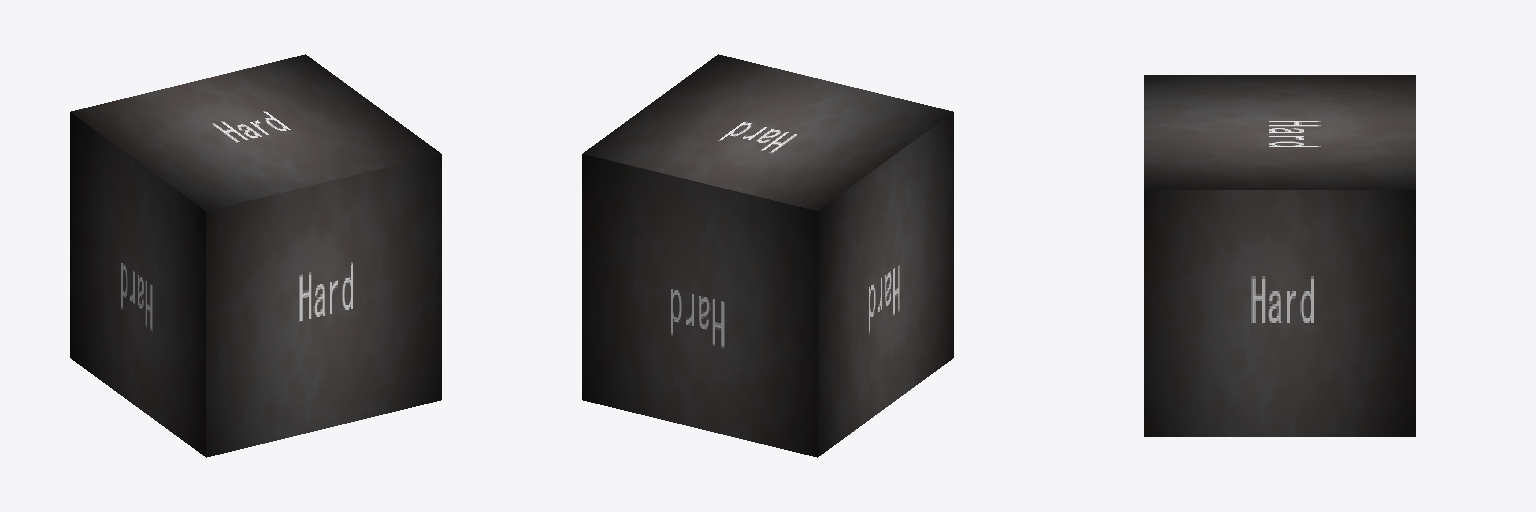
3 views of the same model, side by side, from view 1: azimuth 30°, elevation 25°; view 2: azimuth 150°, elevation 25°; view 3: azimuth 270°, elevation 25° (orthographic).
Visible parts, largest first — view 1: Cube; view 2: Cube; view 3: Cube.
Part boxes in pixels (x1,y1,x2,y2): Cube: (70, 54, 441, 457); Cube: (582, 54, 953, 457); Cube: (1144, 75, 1415, 436).
Size of the model in its own units: 2 by 2 by 2.
1 materials, 1 textured.